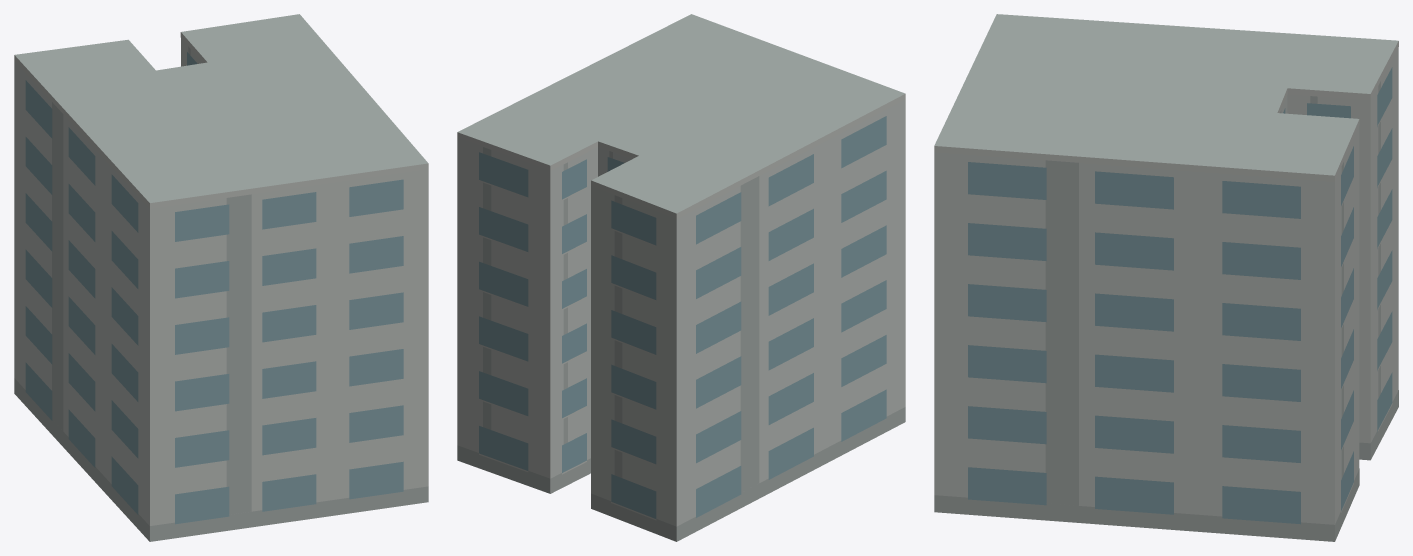
File: survey-upis-32885092.glb
The picture shows the model from 3 angles, left to right: view 1: azimuth 30°, elevation 25°; view 2: azimuth 150°, elevation 25°; view 3: azimuth 270°, elevation 25°; orthographic projection. The views are drawn at different scales.
Visible parts, largest first — view 1: survey-upis-32885092.tmp; view 2: survey-upis-32885092.tmp; view 3: survey-upis-32885092.tmp.
Part boxes in pixels (box(x1,y1,x2,y2)): survey-upis-32885092.tmp: box(14, 14, 428, 541); survey-upis-32885092.tmp: box(457, 14, 905, 541); survey-upis-32885092.tmp: box(934, 14, 1398, 541).
Bounding box in the file's own units: 13.63 × 14.4 × 16.56.
